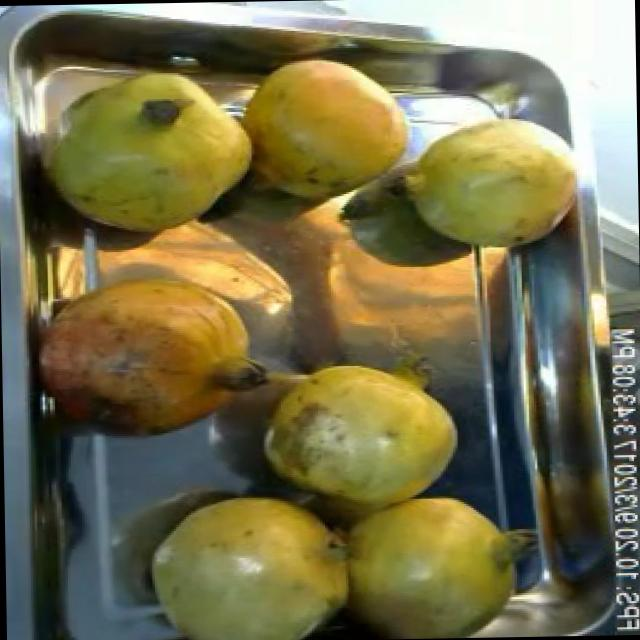fruit: (17, 256, 280, 456), (20, 47, 276, 249), (243, 343, 472, 518), (216, 38, 430, 224), (132, 483, 365, 640), (322, 476, 536, 638), (382, 99, 590, 263)
